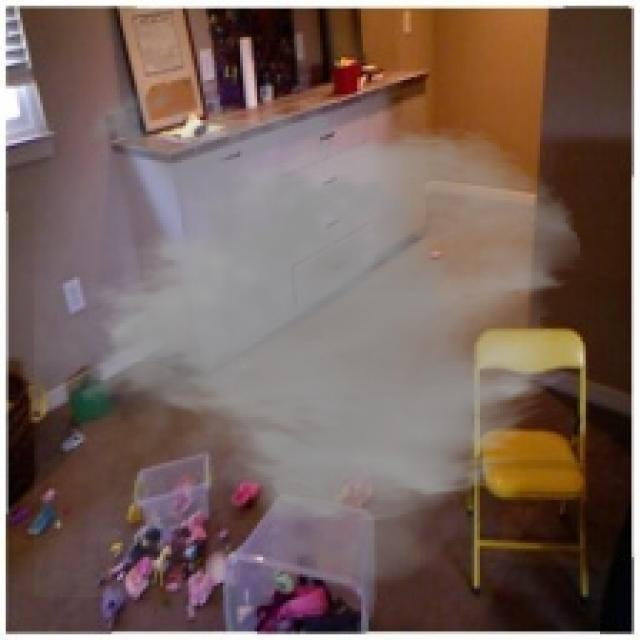Smoke: (34, 72, 586, 598)
